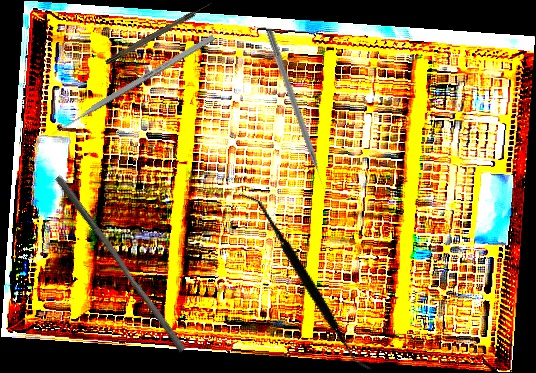Hook Surgical: (104, 0, 214, 66)
Pusher: (47, 174, 193, 354), (49, 33, 216, 138), (263, 28, 330, 197)
Spatula Surgical: (194, 192, 416, 372)
